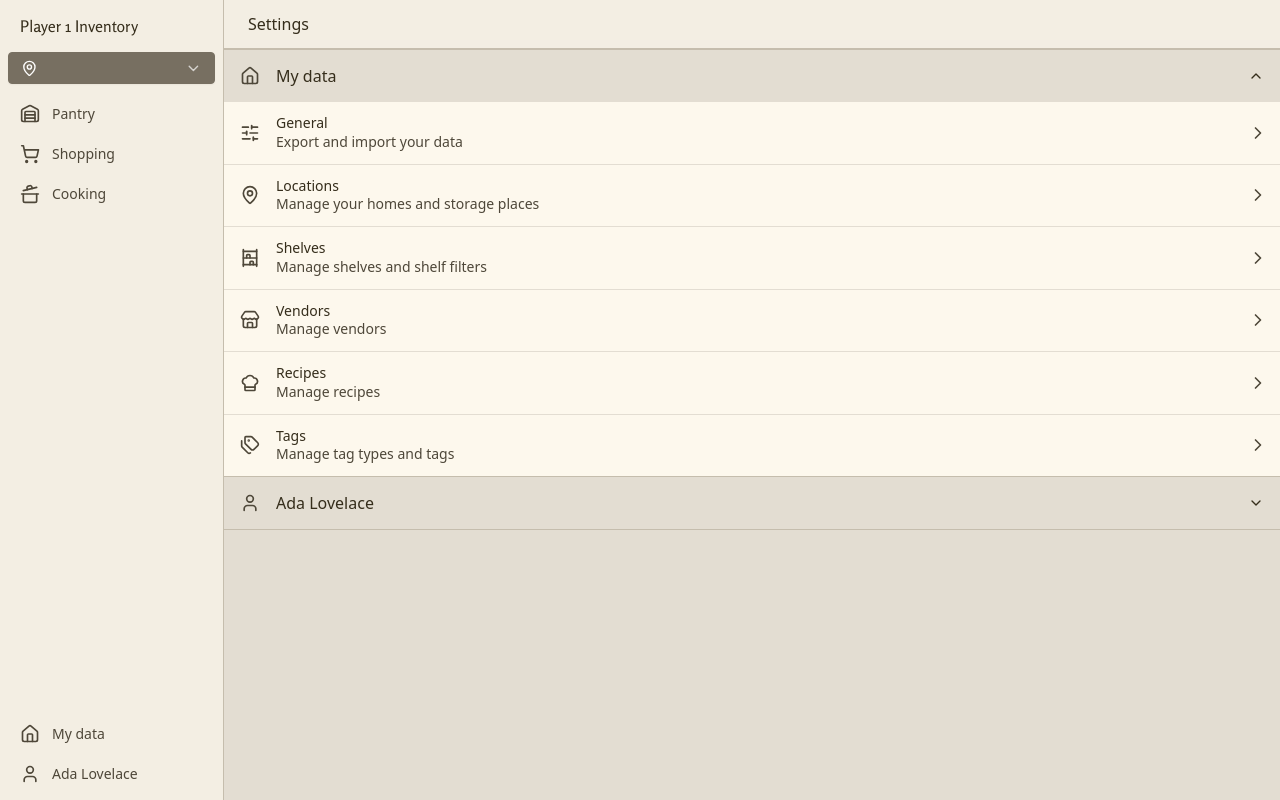
it: Settings page (/settings) › on mobile › user in cloud mode sees their name on the preferences item, and their account inside it
Click the button "Ada Lovelace" below "Manage tag types and tags" at (325, 503), box x1=224 y1=477 x2=1279 y2=529
(page scrolled)
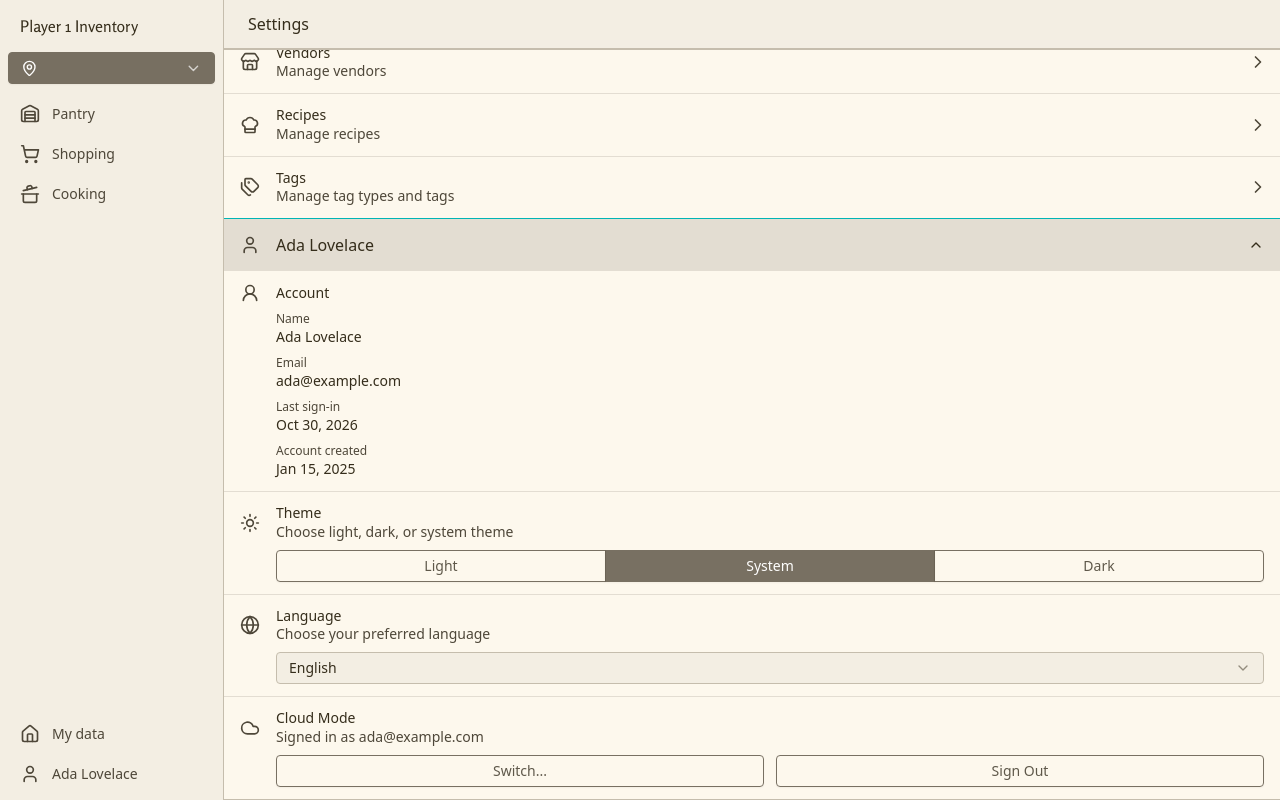
Expected: the button "Ada Lovelace" below "Manage tag types and tags" is expanded, x1=224 y1=219 x2=1279 y2=271
Expected: the text "ada@example.com" is shown, x1=276 y1=371 x2=401 y2=390
Expected: the text "Oct 30, 2026" is shown, x1=276 y1=415 x2=358 y2=434
